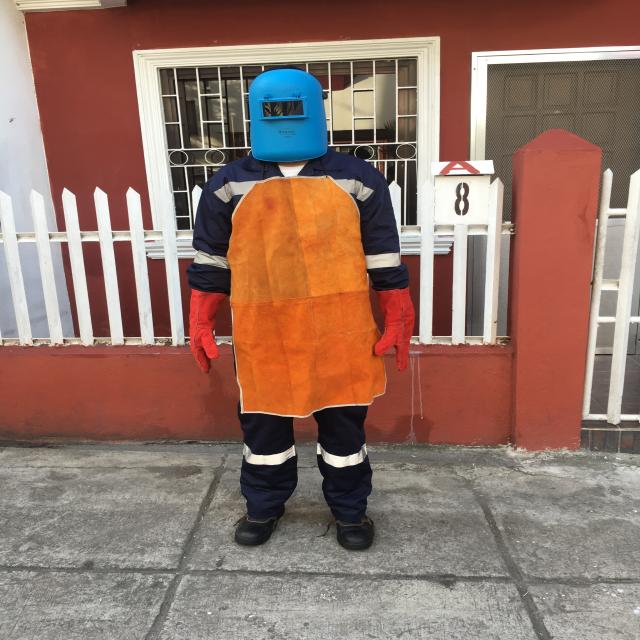with_helmet: (222, 68, 347, 167)
